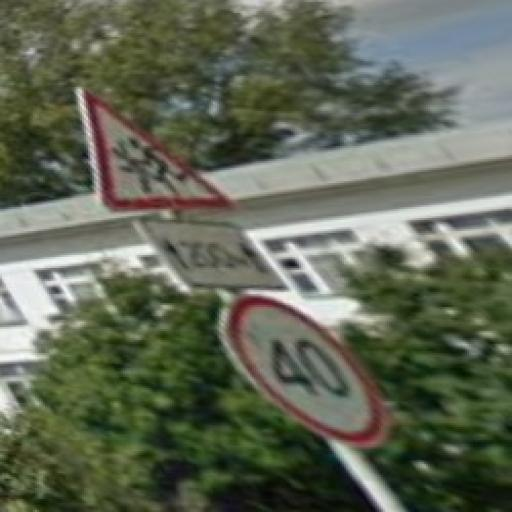traffic_sign: (224, 293, 390, 452), (77, 86, 234, 212)
